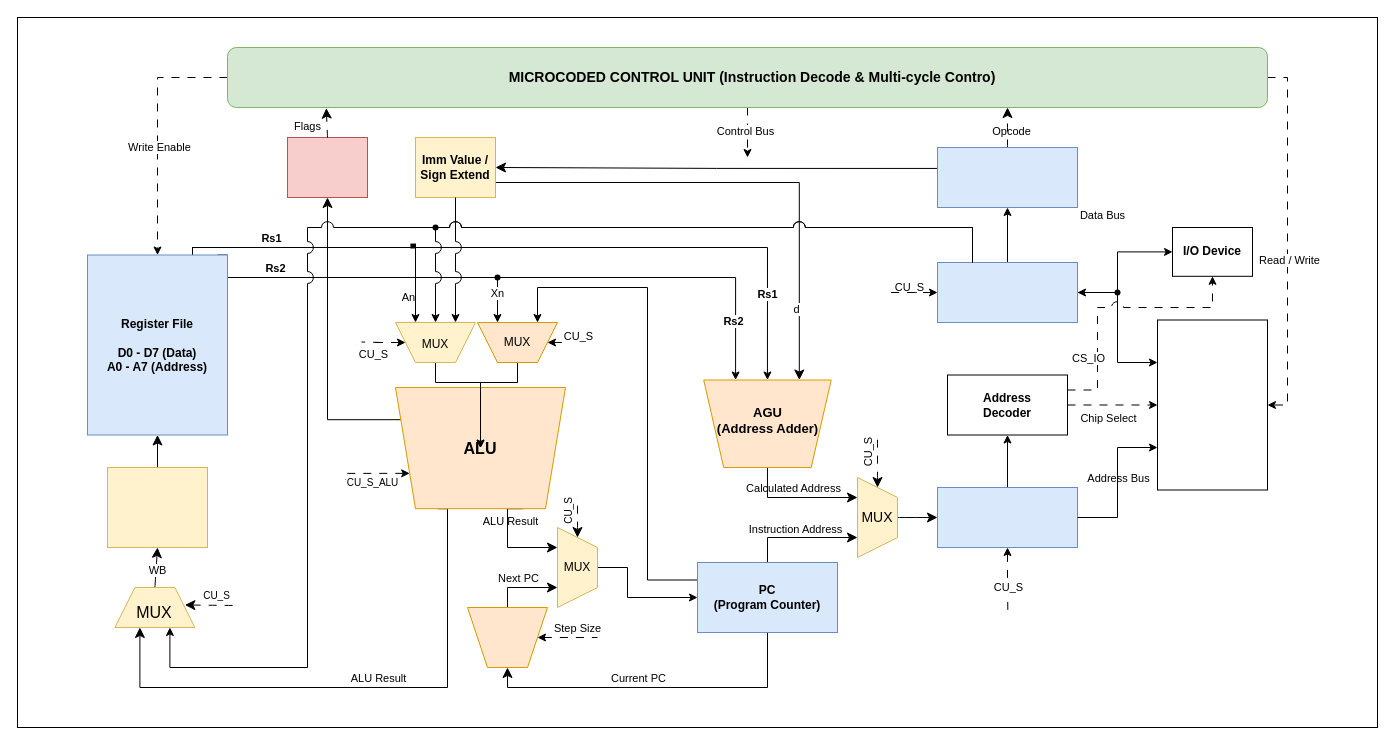
This 1395x745 diagram has some shape labels left out. The shapes that lost their labels are listed below. From the top down, each one's centre as x and y in pixels, then its label:
At [327,167]: "SR (N, Z, V, C)".
At [1007,177]: "IR (Instruction Reg)".
At [1007,292]: "MDR (Memory Data Reg)".
At [1212,404]: "Memory (RAM) Instr. & Data".
At [157,507]: "Size Masking [0..7] ( .b ) [0..31] ( .l )".
At [1007,517]: "MAR (Memory Address)".
At [507,637]: "+2 / +4 Adder".
